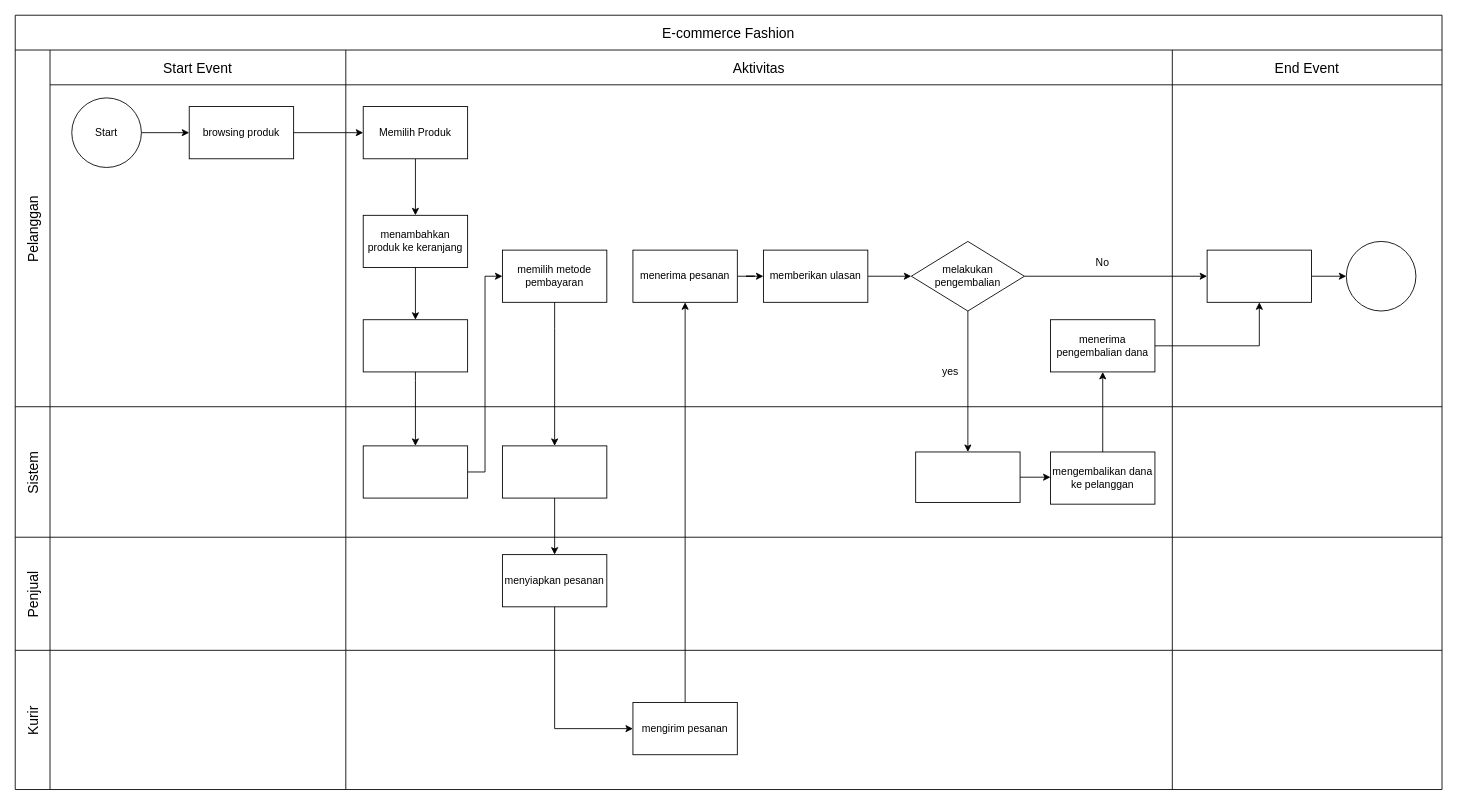
Image size: 1457x805. Some labels were removed from this diagram. The shapes that lost their labels are listed below. From the top down, each one's centre as x and y in pixels, then its label:
the point at 1259,275: Pesanan selesai/pesanan dikembalikan
the point at 1380,276: End
the point at 415,345: melakukan checkout
the point at 415,471: memverifikasi ketersediaan produk
the point at 554,471: memproses pembayaran
the point at 967,476: memproses pengembalian
